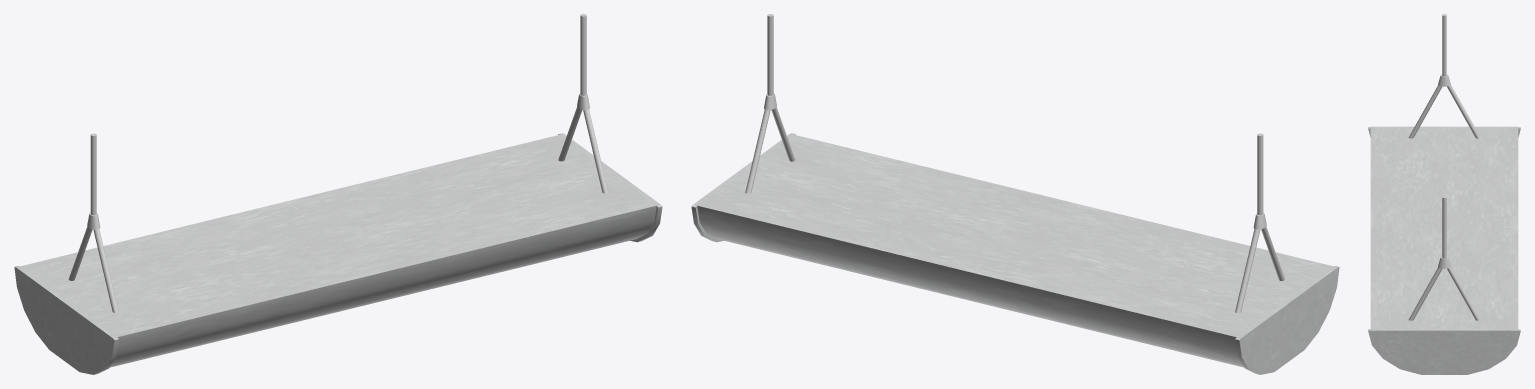
The model's file is Taklampa.fbx.
3 views of the same model, side by side, from view 1: azimuth 30°, elevation 25°; view 2: azimuth 150°, elevation 25°; view 3: azimuth 270°, elevation 25° (orthographic). The views are drawn at different scales.
Parts seen in each view (by area): view 1: lamp; view 2: lamp; view 3: lamp.
Boxes of the visible parts, x1,y1,x2,y2 form: lamp: (14,14,662,374); lamp: (691,14,1339,374); lamp: (1368,14,1520,374).
Bounding box in the file's own units: 120 × 45.92 × 38.03.
3 materials, 2 textured.
